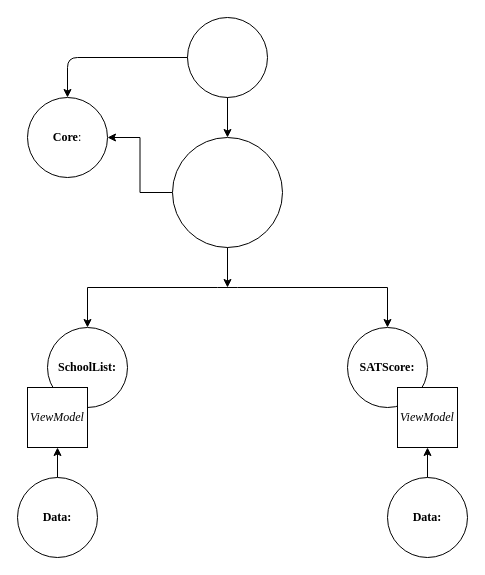
Image size: 485x575. Some labels were removed from this diagram. Here are the shapes that lost their labels. From the top down, the centre of each, then its label:
At (227,57): "APP:".
At (227,192): "Features :".
